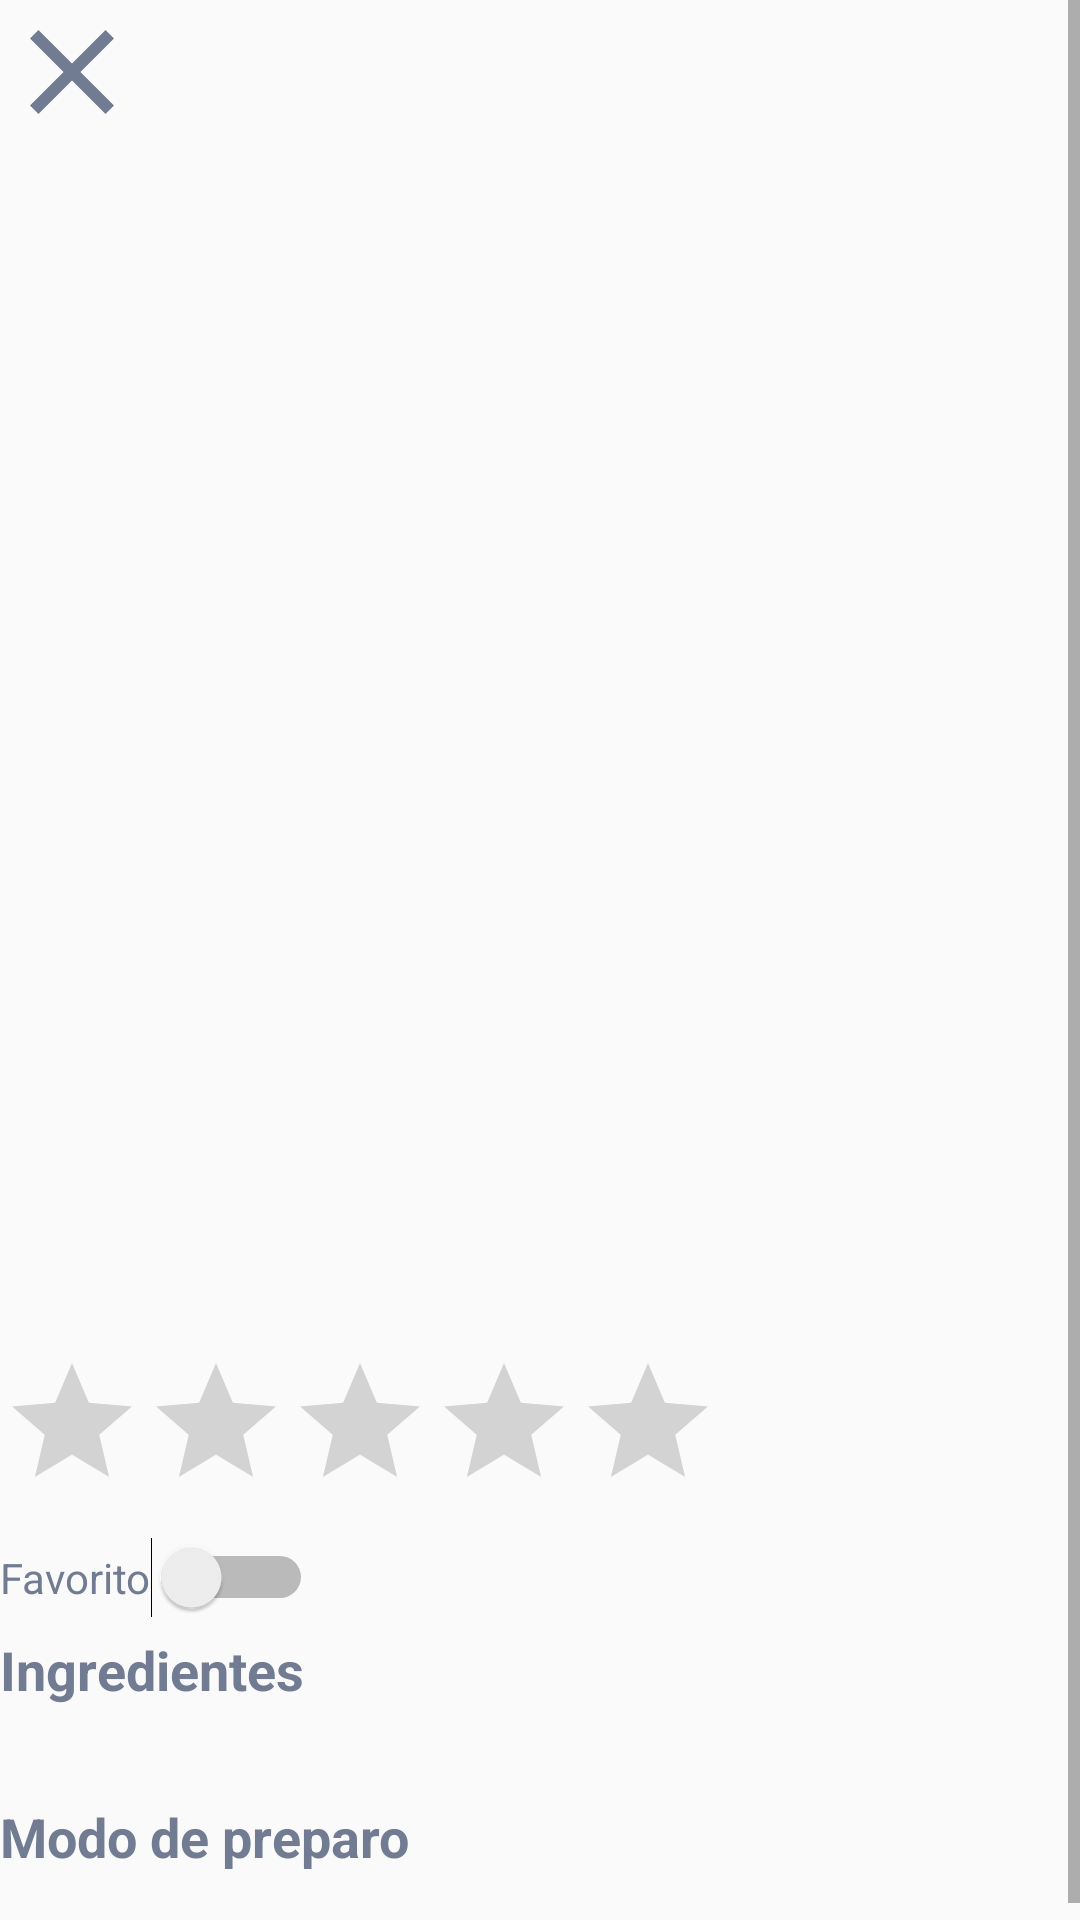

Screen size 1080 x 1920. Icon name, then its box in pixels as (x1, y1, x2, y2):
close: (30, 30, 114, 114)
